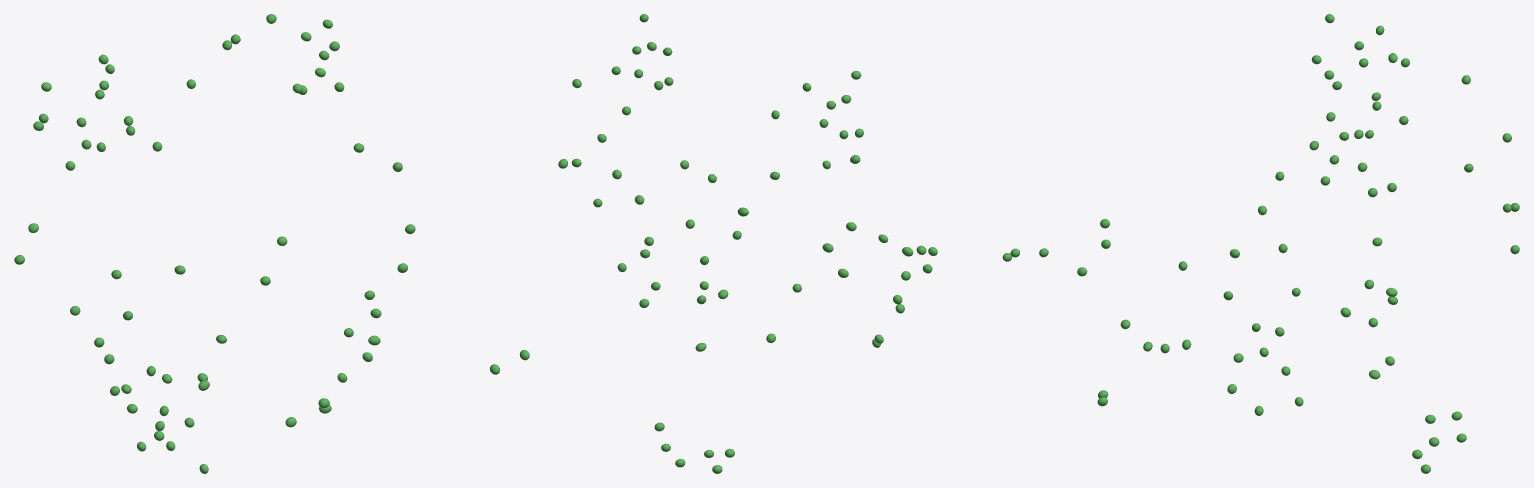
Rendered from lymphatic.pelvis.glb.
The picture shows the model from 3 angles, left to right: view 1: azimuth 30°, elevation 25°; view 2: azimuth 150°, elevation 25°; view 3: azimuth 270°, elevation 25°; orthographic projection. The views are drawn at different scales.
Parts seen in each view (by area): view 1: left_lateral_vesical_nodes; view 2: no part large enough to name; view 3: pararectal_nodes, postvesical_nodes, left_lateral_vesical_nodes.
Boxes of the visible parts, x1=… form: left_lateral_vesical_nodes: x1=337, y1=290, x2=381, y2=382; pararectal_nodes: x1=1412, y1=411, x2=1466, y2=473; postvesical_nodes: x1=1368, y1=237, x2=1397, y2=379; left_lateral_vesical_nodes: x1=1182, y1=339, x2=1303, y2=415.
Bounding box in the file's own units: 0.1158 × 0.1198 × 0.1193.
